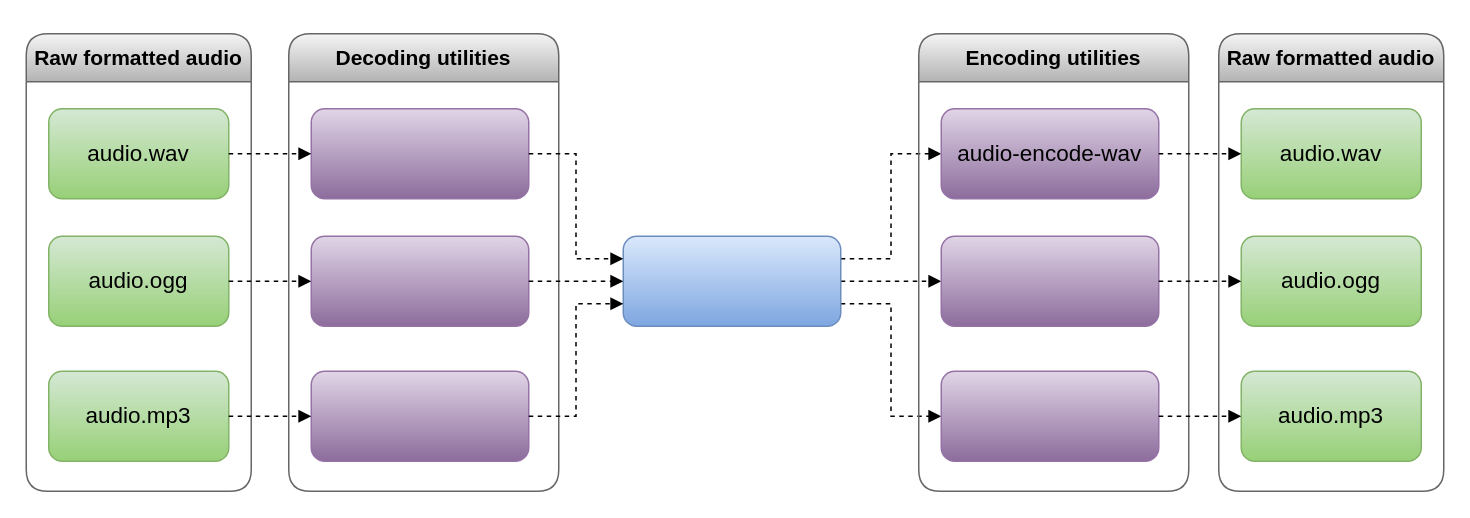
This 1470x518 diagram has some shape labels left out. Here are the shapes that lost their labels. From the top down, the centre of each, then its label:
the point at 419,153: audio-decode-wav
the point at 419,280: audio-decode-ogg
the point at 731,280: Audio object
the point at 1049,280: audio-encode-ogg
the point at 419,415: audio-decode-mp3
the point at 1049,415: audio-encode-mp3
